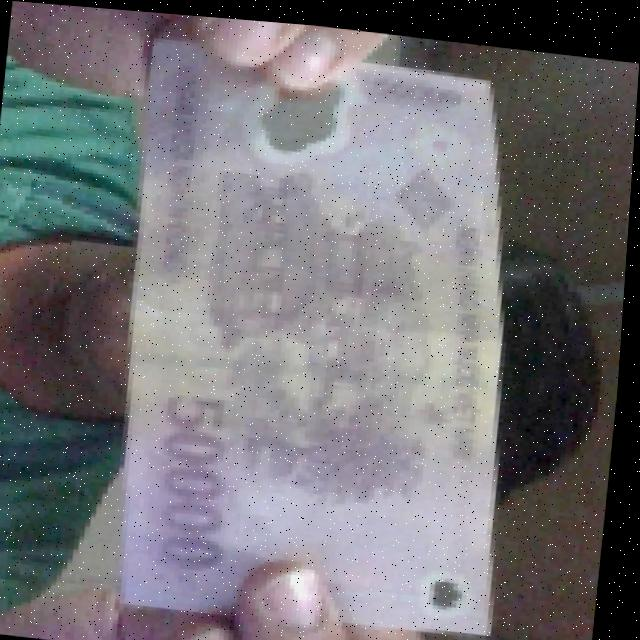50 000 VND: (98, 19, 553, 640)
